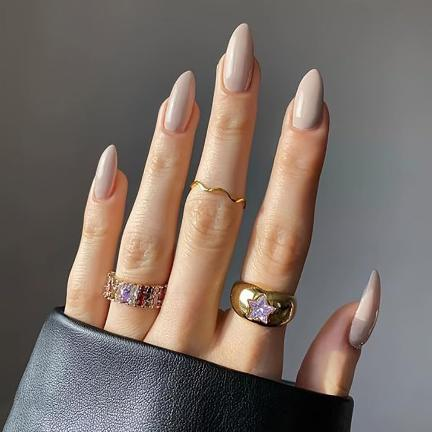Nail: (349, 269, 381, 349), (223, 23, 253, 93), (164, 70, 196, 133), (292, 68, 324, 130), (94, 144, 117, 200)
